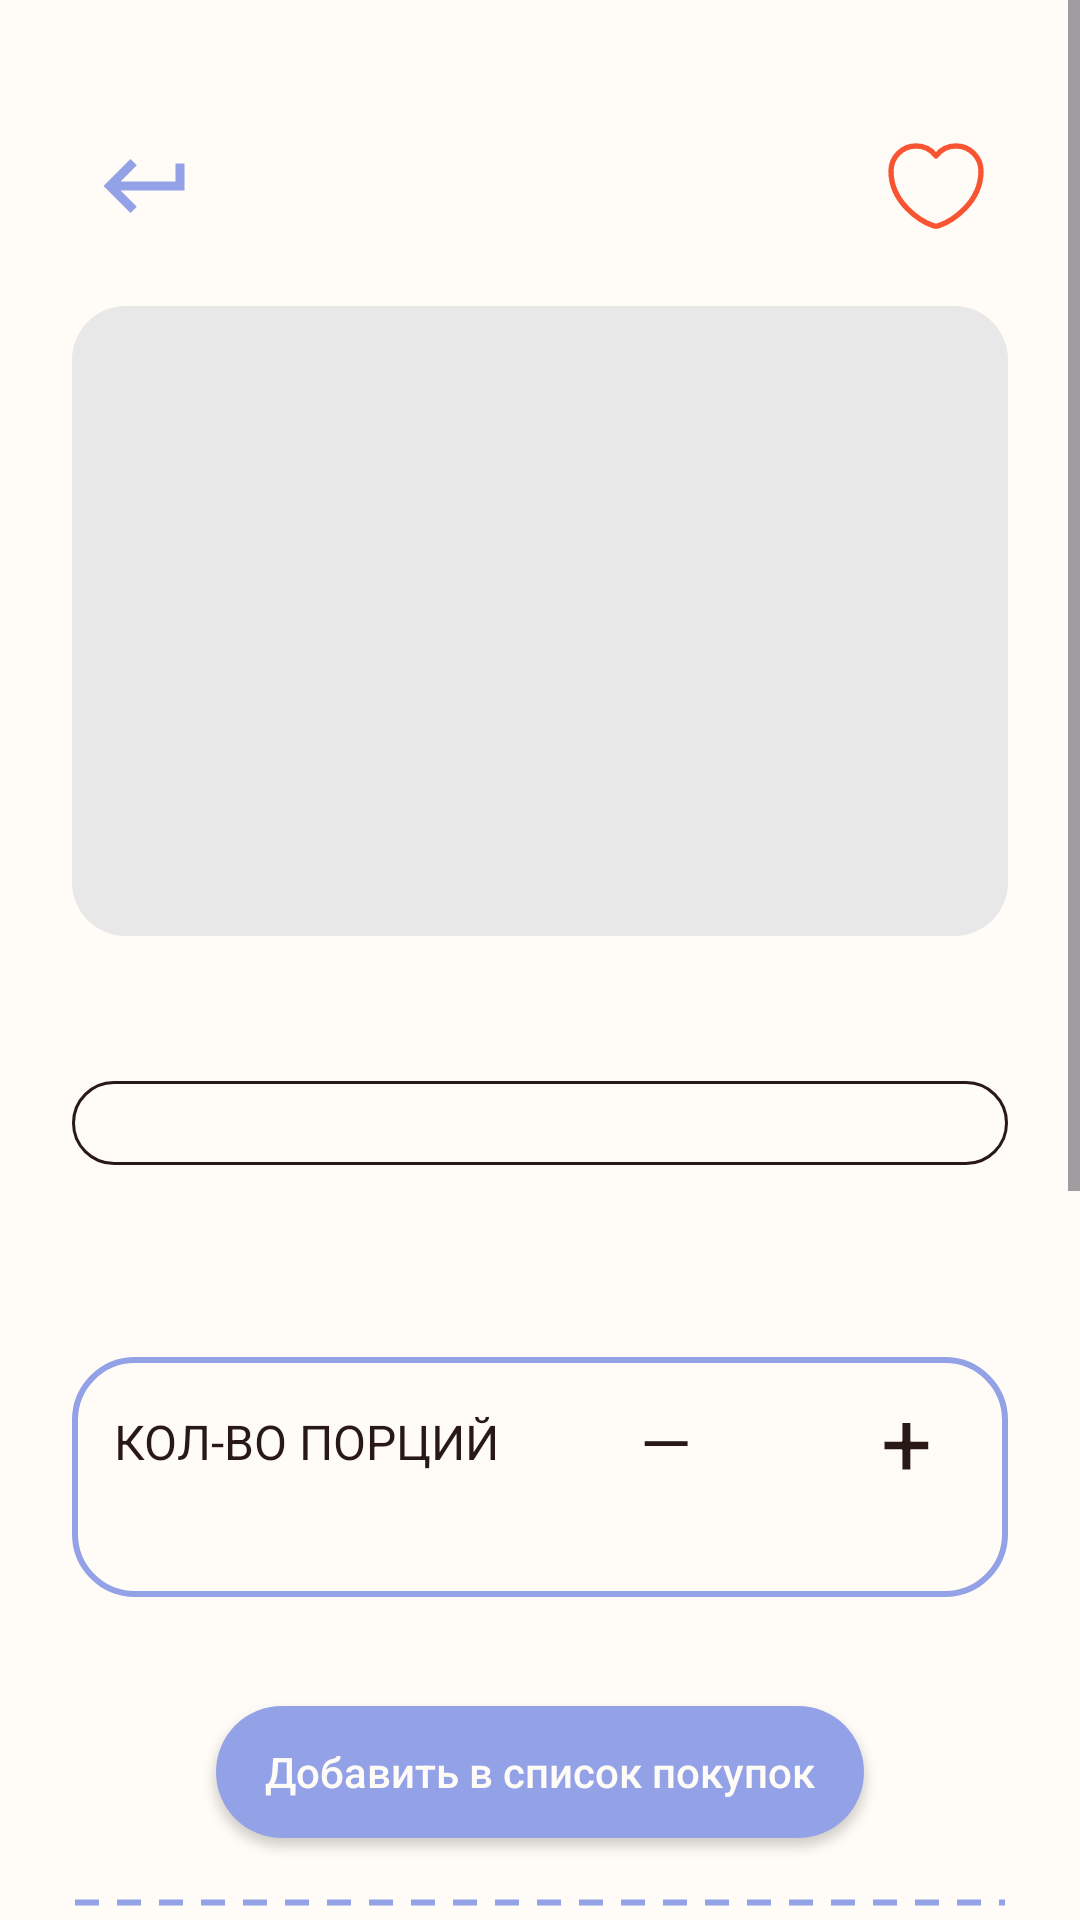

Named icons in this screenshot (1080*1920) and their centers, point (x, y):
heart: point (936, 186)
Назад: point (144, 186)
